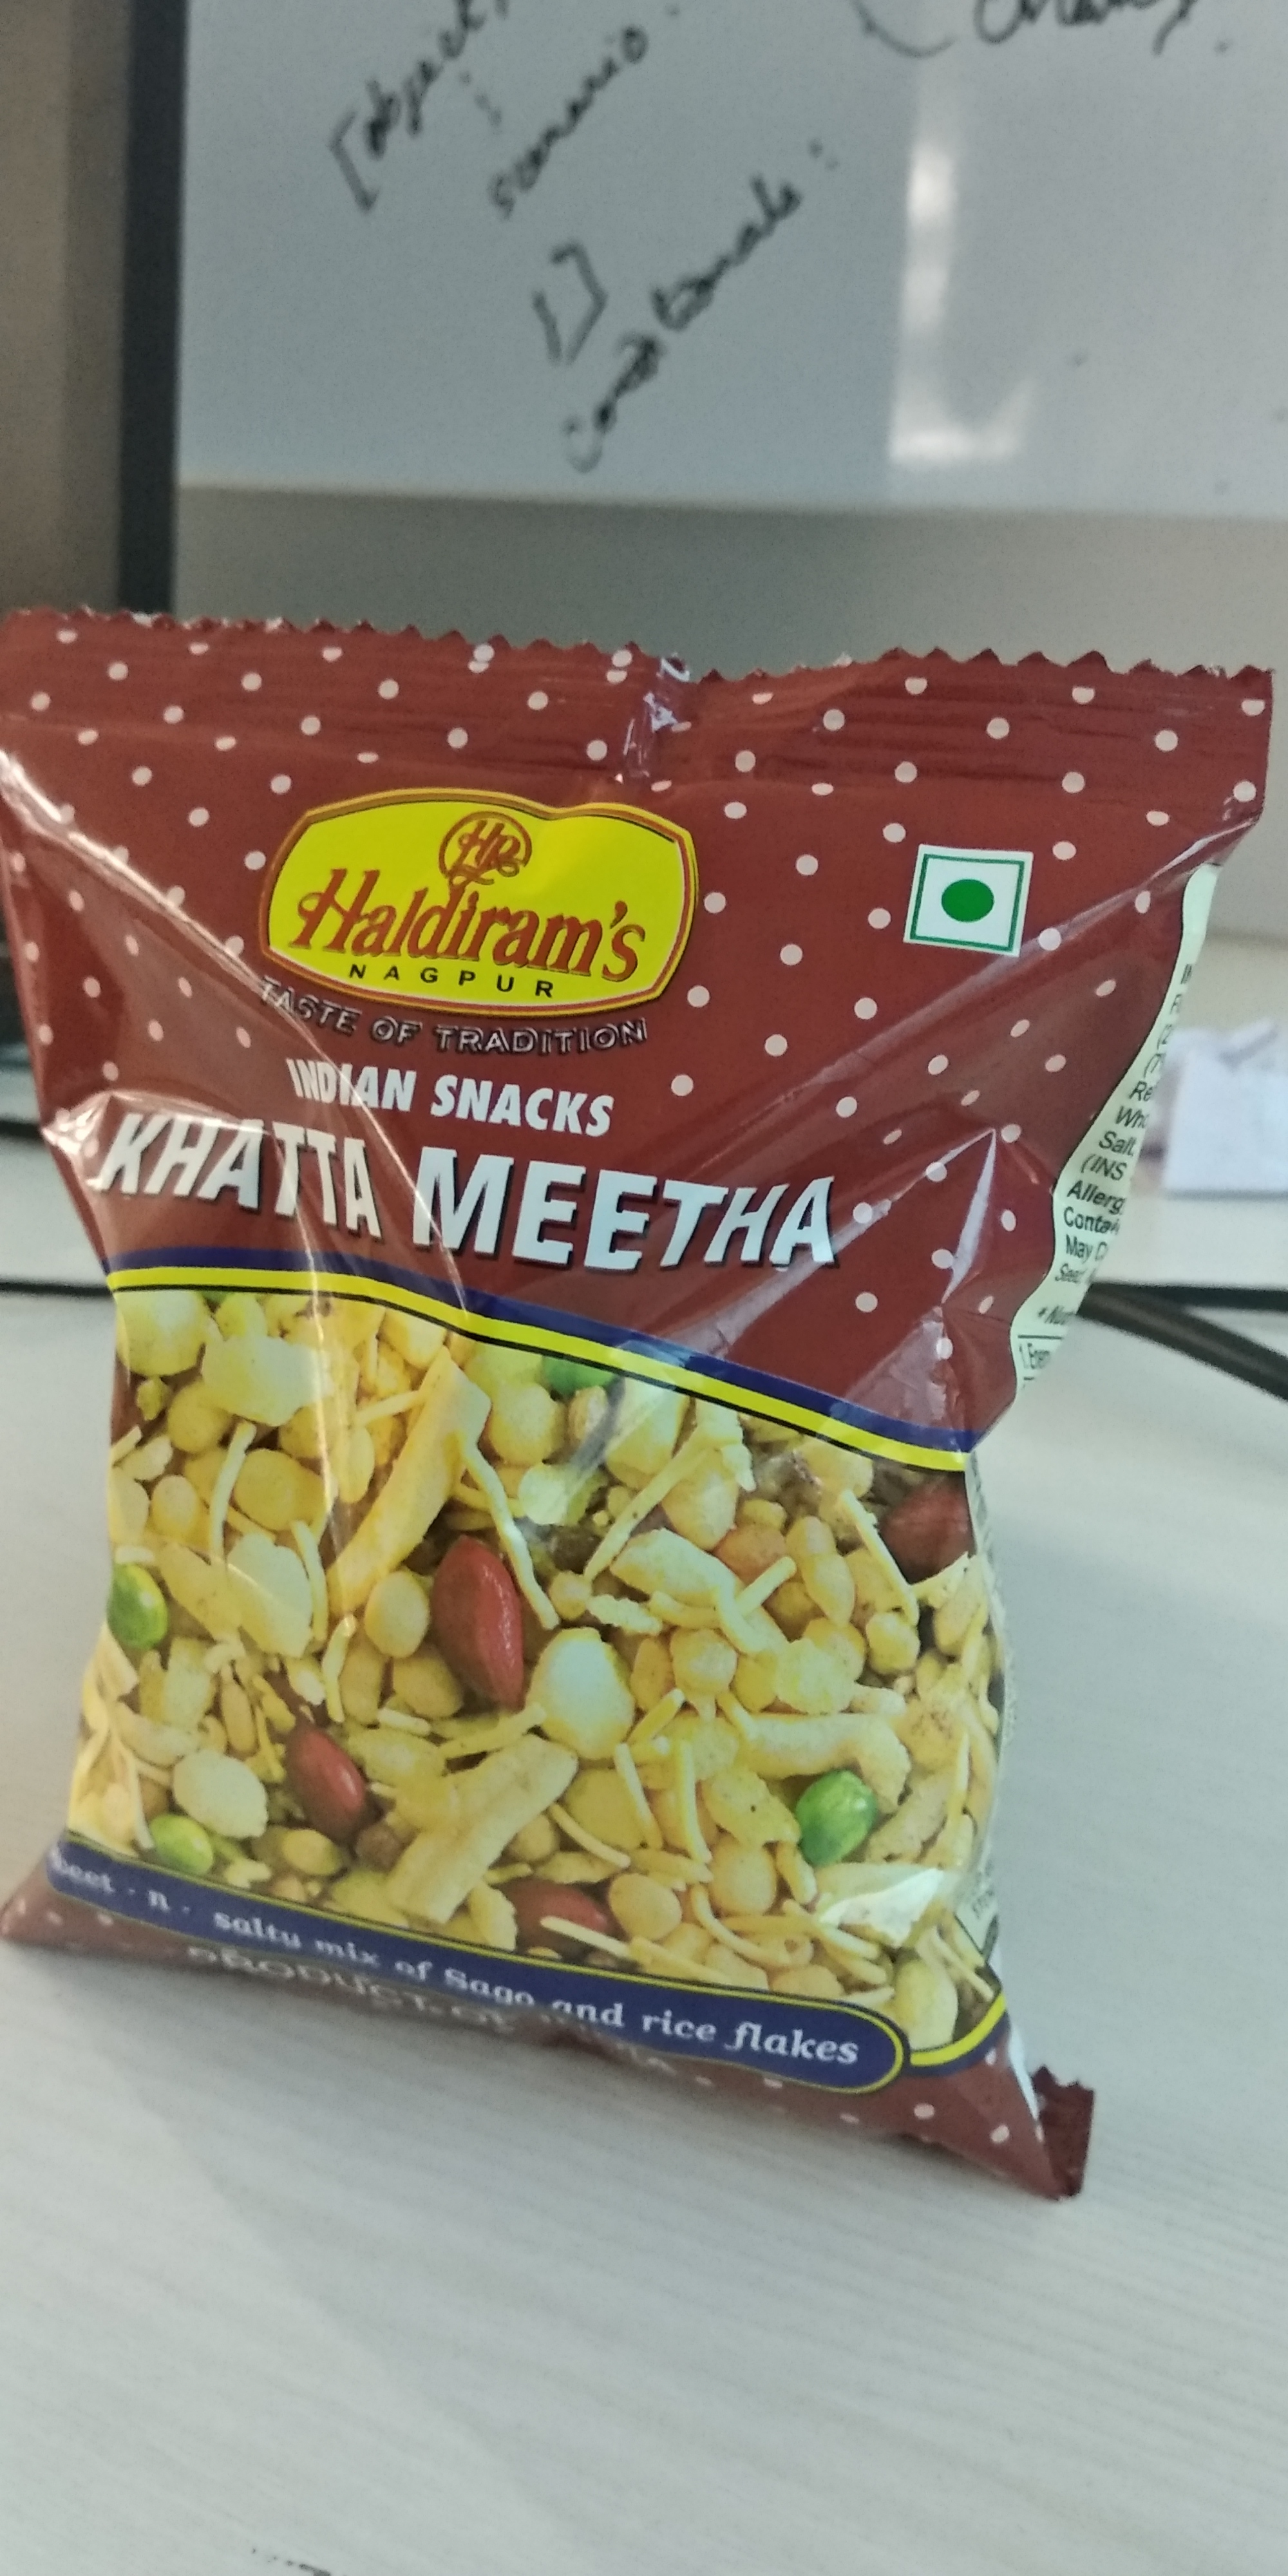khataMeetha: (7, 598, 1288, 2203)
